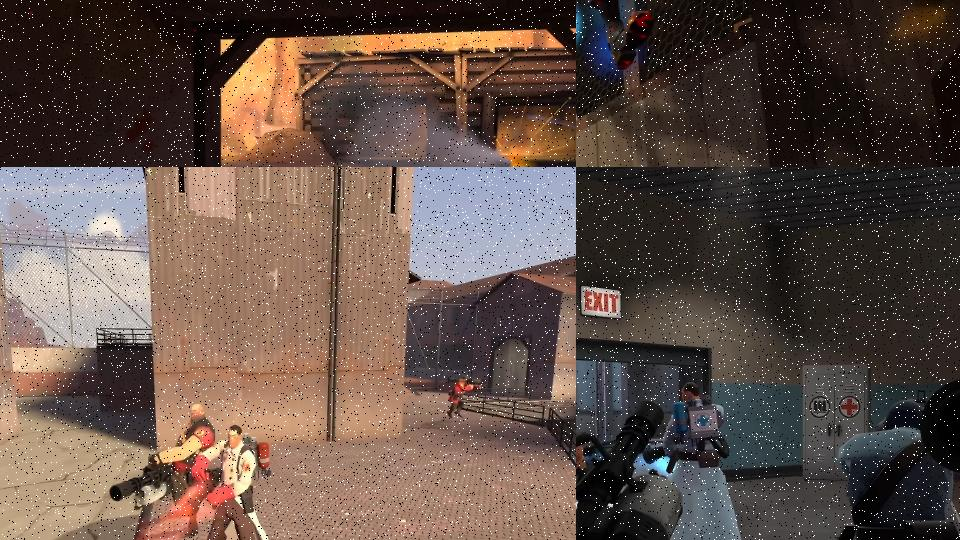Enemy: (788, 374, 960, 540), (646, 378, 741, 540), (108, 403, 217, 537), (181, 423, 278, 540), (446, 374, 489, 419)
